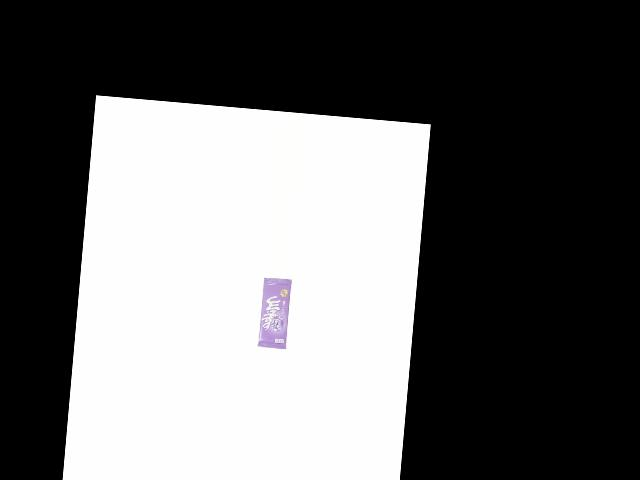chocolate: (255, 276, 295, 353)
